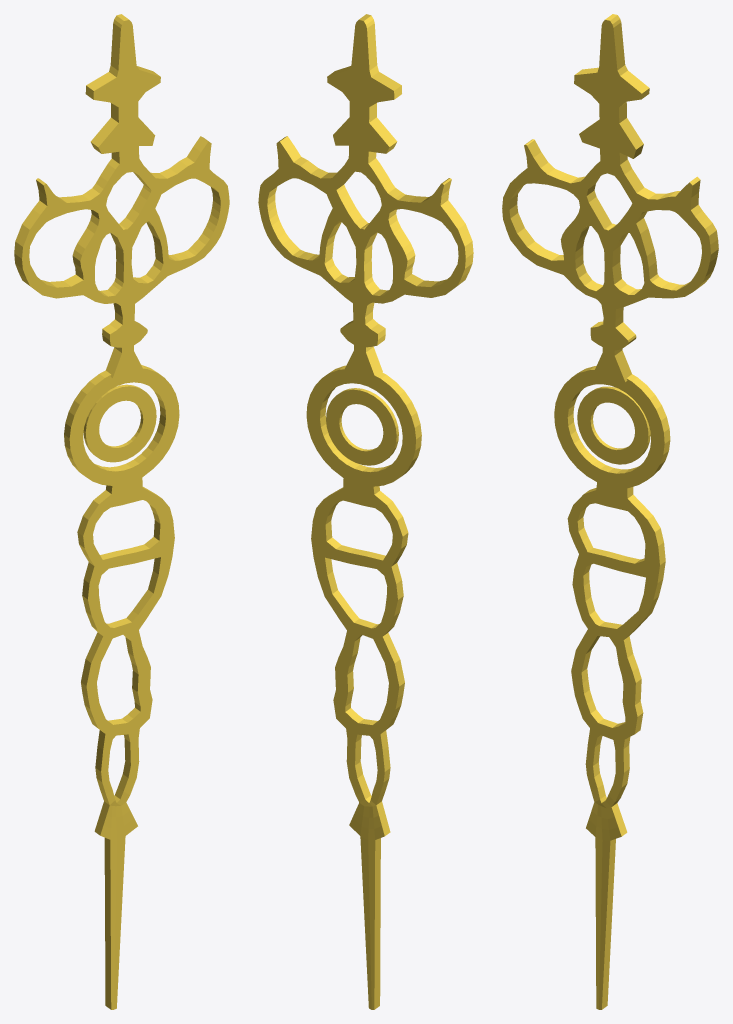
The model's file is S3_Needle.fbx.
3 renders of one model, left to right at view 1: azimuth 30°, elevation 25°; view 2: azimuth 150°, elevation 25°; view 3: azimuth 330°, elevation 25°, orthographic.
Visible parts, largest first — view 1: Circle_003; view 2: Circle_003; view 3: Circle_003.
Part boxes in pixels (left/top/right/bottom): Circle_003: left=14, top=14, right=229, bottom=1009; Circle_003: left=258, top=14, right=473, bottom=1009; Circle_003: left=502, top=14, right=718, bottom=1009.
Size of the model in its own units: 25.24 by 115 by 1.73.
